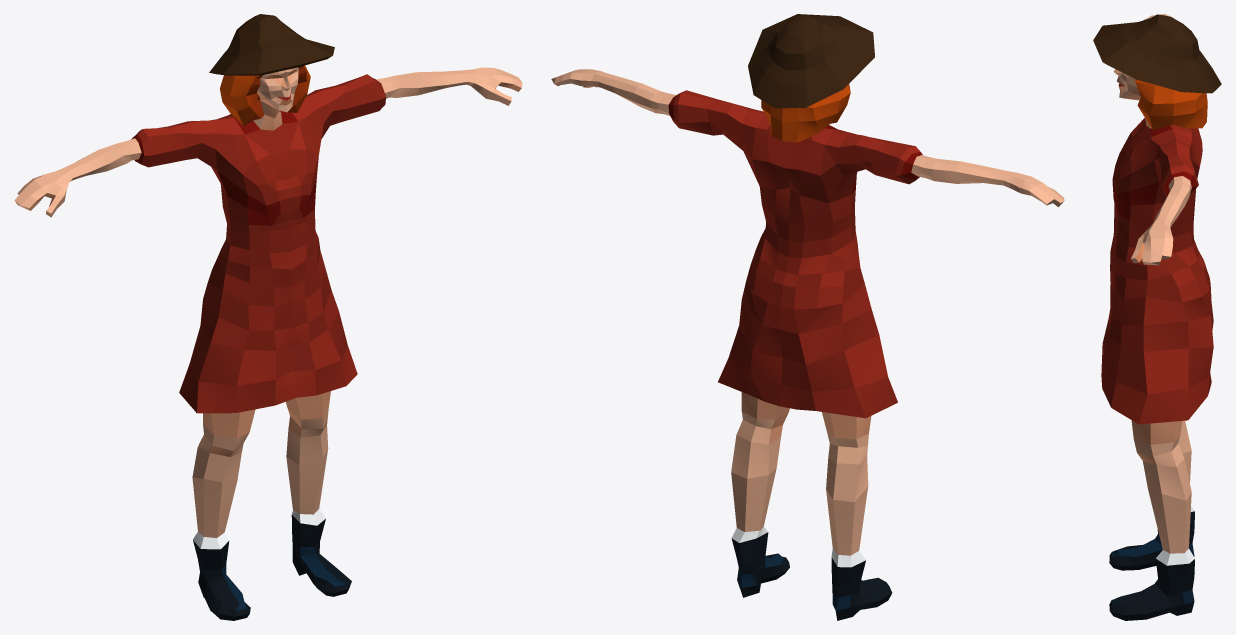
The model's file is casual_Female_H-model.obj.
The picture shows the model from 3 angles, left to right: view 1: azimuth 30°, elevation 25°; view 2: azimuth 150°, elevation 25°; view 3: azimuth 270°, elevation 25°; orthographic projection.
Parts seen in each view (by area): view 1: casual_Female_H, acc_brown_hat; view 2: casual_Female_H, acc_brown_hat; view 3: casual_Female_H, acc_brown_hat.
Part boxes in pixels (box(x1,y1,x2,y2)): casual_Female_H: box(14, 65, 522, 620); acc_brown_hat: box(209, 14, 334, 75); casual_Female_H: box(551, 69, 1064, 620); acc_brown_hat: box(748, 14, 874, 108); casual_Female_H: box(1101, 14, 1213, 620); acc_brown_hat: box(1093, 14, 1221, 93).
Bounding box in the file's own units: 154 × 168 × 34.15.
